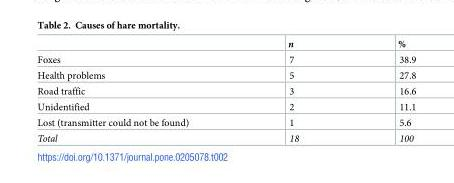table: (36, 36, 415, 144)
table column: (36, 36, 237, 144), (237, 36, 347, 144), (347, 36, 415, 144)
table column header: (36, 36, 415, 52)
table row: (36, 36, 415, 52), (36, 67, 415, 83), (36, 98, 415, 114), (36, 52, 415, 67), (36, 83, 415, 98), (36, 114, 415, 129), (36, 129, 415, 144)
